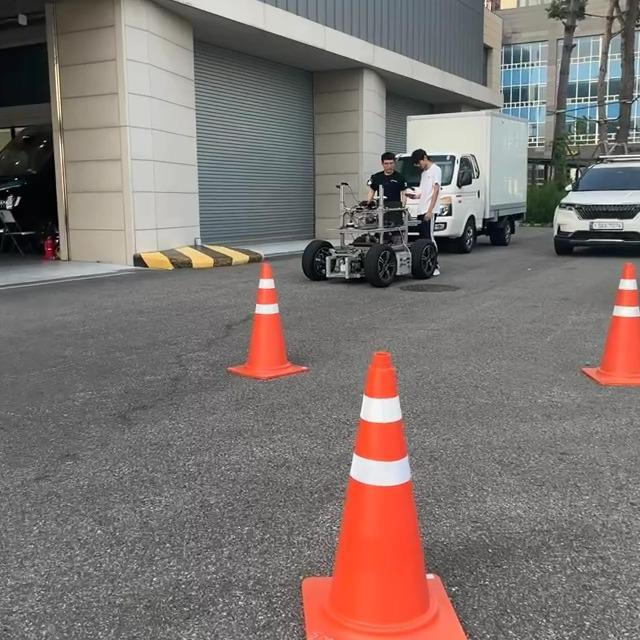fallen_object: (249, 337, 501, 640), (196, 245, 342, 425), (554, 250, 640, 488)
